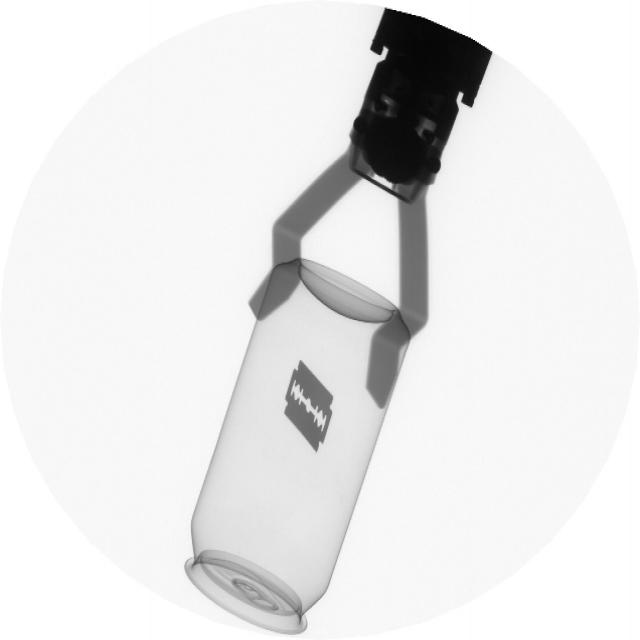BLADE: (281, 350, 341, 459)
